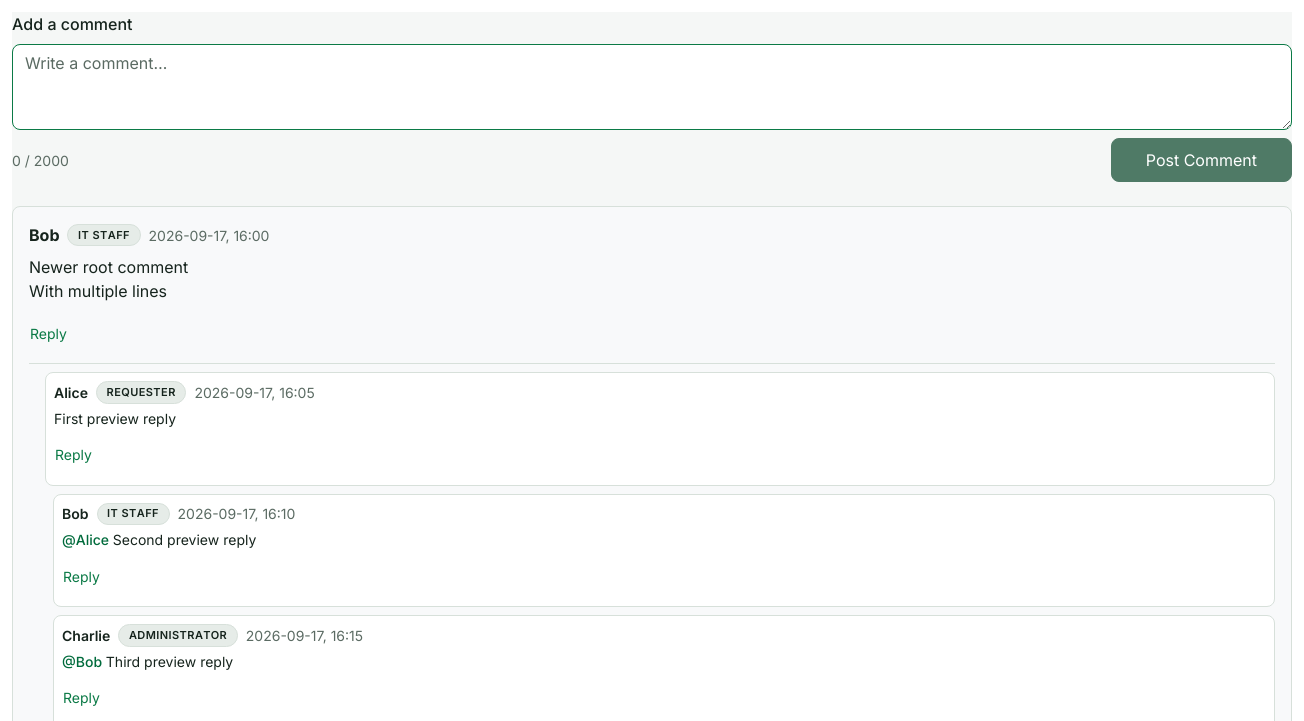
Test: PublicComments component @issue-6 › UI-23 Root composer and lazy root list › posts new root comment, displays at top, and clears input
Expected: the text "Newer root comment With multiple lines" is shown, x1=29 y1=257 x2=188 y2=301
In the text box labelled "Add a comment": (652, 87) x1=12 y1=44 x2=1292 y2=130, type "Freshly posted comment"
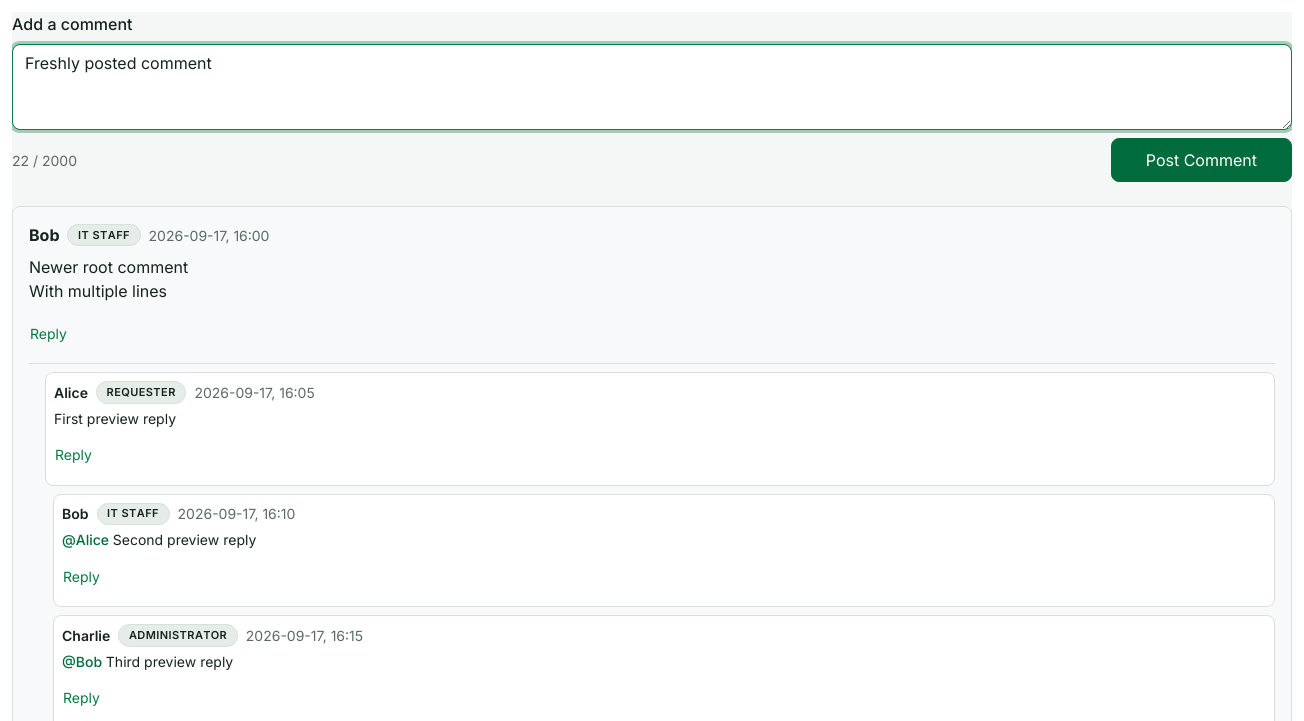
Click the button "Post Comment": (1201, 160) x1=1111 y1=138 x2=1292 y2=182
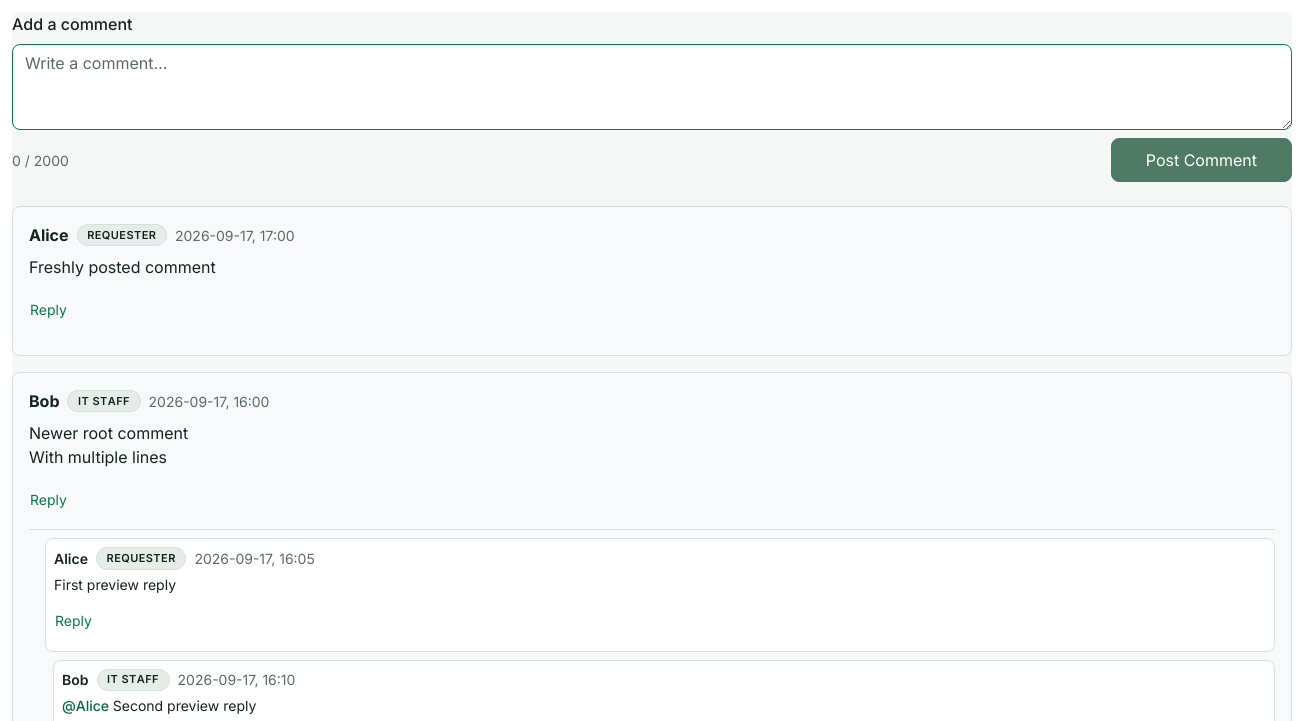
Result: the text "Freshly posted comment" is shown at x1=29 y1=257 x2=216 y2=277
Result: the text box labelled "Add a comment" is empty at x1=12 y1=44 x2=1292 y2=130
